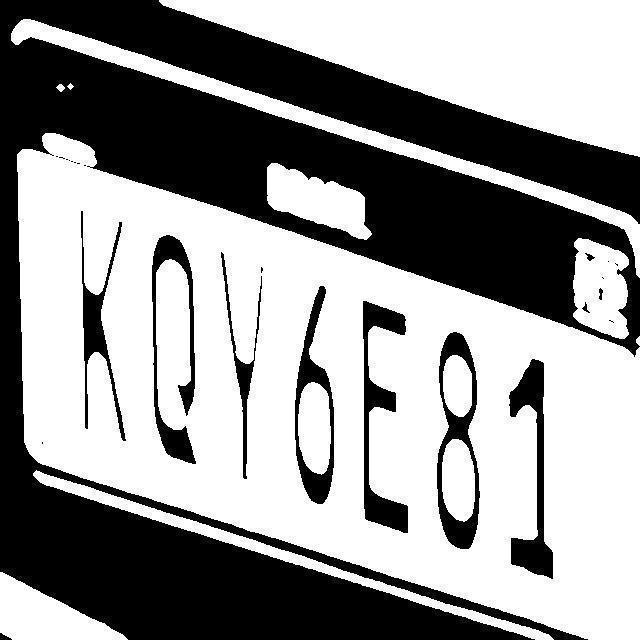1: (498, 338, 560, 598)
6: (286, 266, 344, 532)
8: (428, 308, 488, 568)
e: (355, 278, 416, 548)
k: (67, 207, 134, 448)
q: (143, 216, 211, 482)
y: (217, 247, 269, 494)
